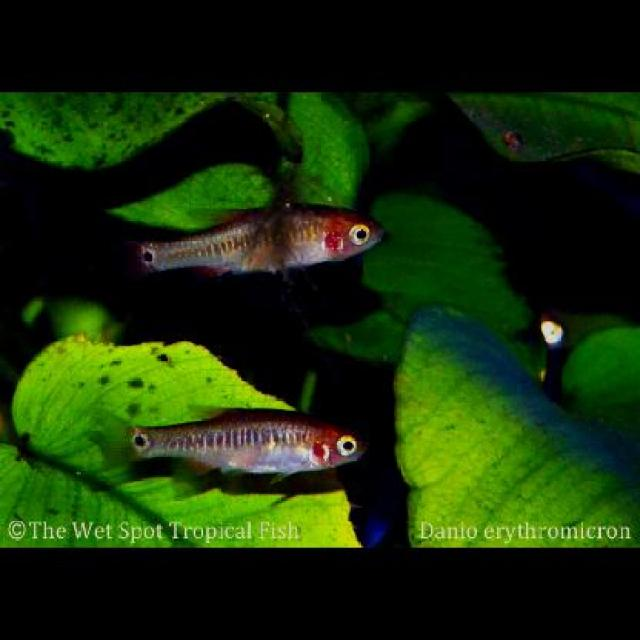ZebraFish: (98, 400, 370, 477), (118, 203, 390, 277)
